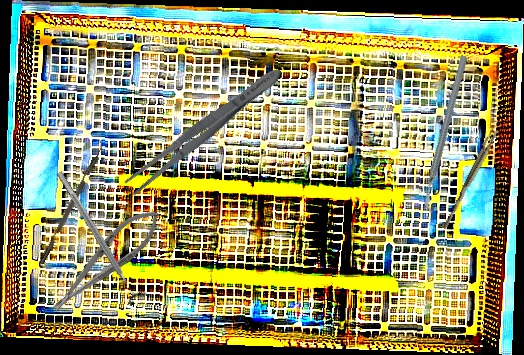Chopper: (372, 53, 522, 215), (33, 138, 108, 265)
Dressing Forceps: (121, 61, 288, 199)
Fixation Ring: (49, 166, 150, 307)
Needle Holder: (41, 198, 170, 323)
Tissue Forceps: (440, 126, 500, 232)
